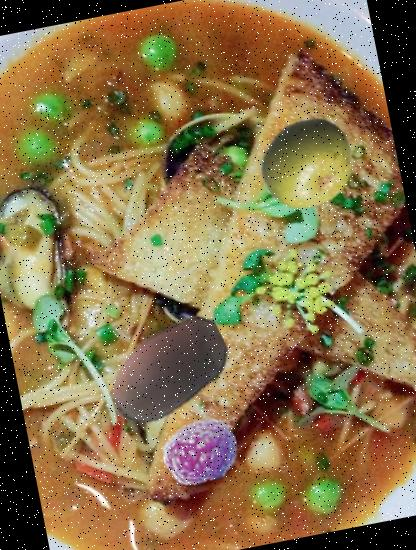Hazelnut: (88, 295, 243, 450)
Pomelo: (251, 107, 364, 220)
Raspberry: (156, 407, 245, 496)
